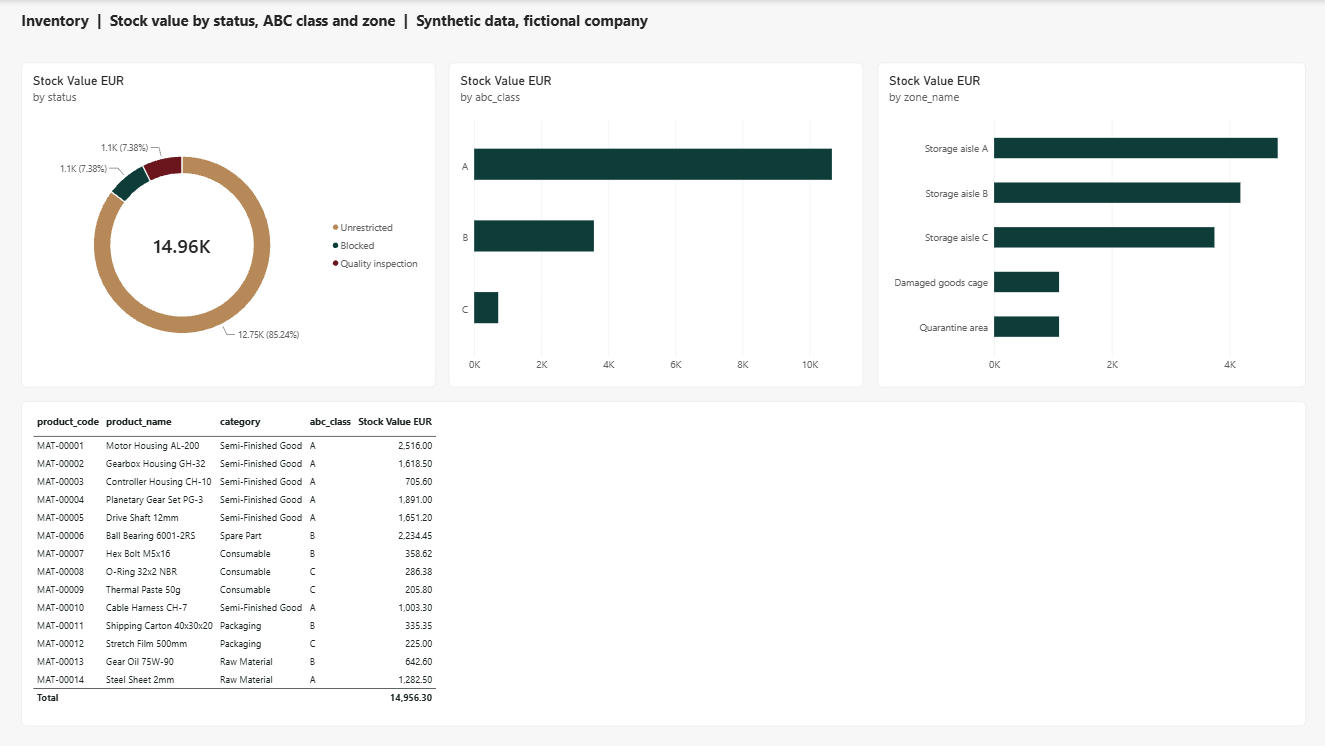

The page's visual inventory and layout, read from the dashboard file:
{"tool":"powerbi","page":{"name":"Inventory","canvas":[1920,1080],"ordinal":1},"visuals":[{"type":"donutChart","fields":{"Category":["snapshot_stock.status"],"Y":["Measures (2).Stock Value EUR"]},"box":[30,90,600,470],"z":0},{"type":"clusteredBarChart","fields":{"Category":["dim_product.abc_class"],"Y":["Measures (2).Stock Value EUR"]},"box":[650,90,600,470],"z":1},{"type":"clusteredBarChart","fields":{"Category":["dim_bin.zone_name"],"Y":["Measures (2).Stock Value EUR"]},"box":[1270,90,620,470],"z":2},{"type":"tableEx","fields":{"Values":["dim_product.product_code","dim_product.product_name","dim_product.category","dim_product.abc_class","Measures (2).Stock Value EUR"]},"box":[30,580,1860,470],"z":3},{"type":"textbox","box":[30,15,1820,60],"z":4}]}

Visuals, with their boxes in screenshot pixels (x1, y1, x2, y2), scaled from the page's 1920x1080 canvas onto the 1325x746 screenshot:
donutChart - snapshot_stock.status x Measures (2).Stock Value EUR: {"left": 21, "top": 62, "right": 435, "bottom": 387}
clusteredBarChart - dim_product.abc_class x Measures (2).Stock Value EUR: {"left": 449, "top": 62, "right": 863, "bottom": 387}
clusteredBarChart - dim_bin.zone_name x Measures (2).Stock Value EUR: {"left": 876, "top": 62, "right": 1304, "bottom": 387}
tableEx - dim_product.product_code x dim_product.product_name: {"left": 21, "top": 401, "right": 1304, "bottom": 725}
textbox: {"left": 21, "top": 10, "right": 1277, "bottom": 52}
